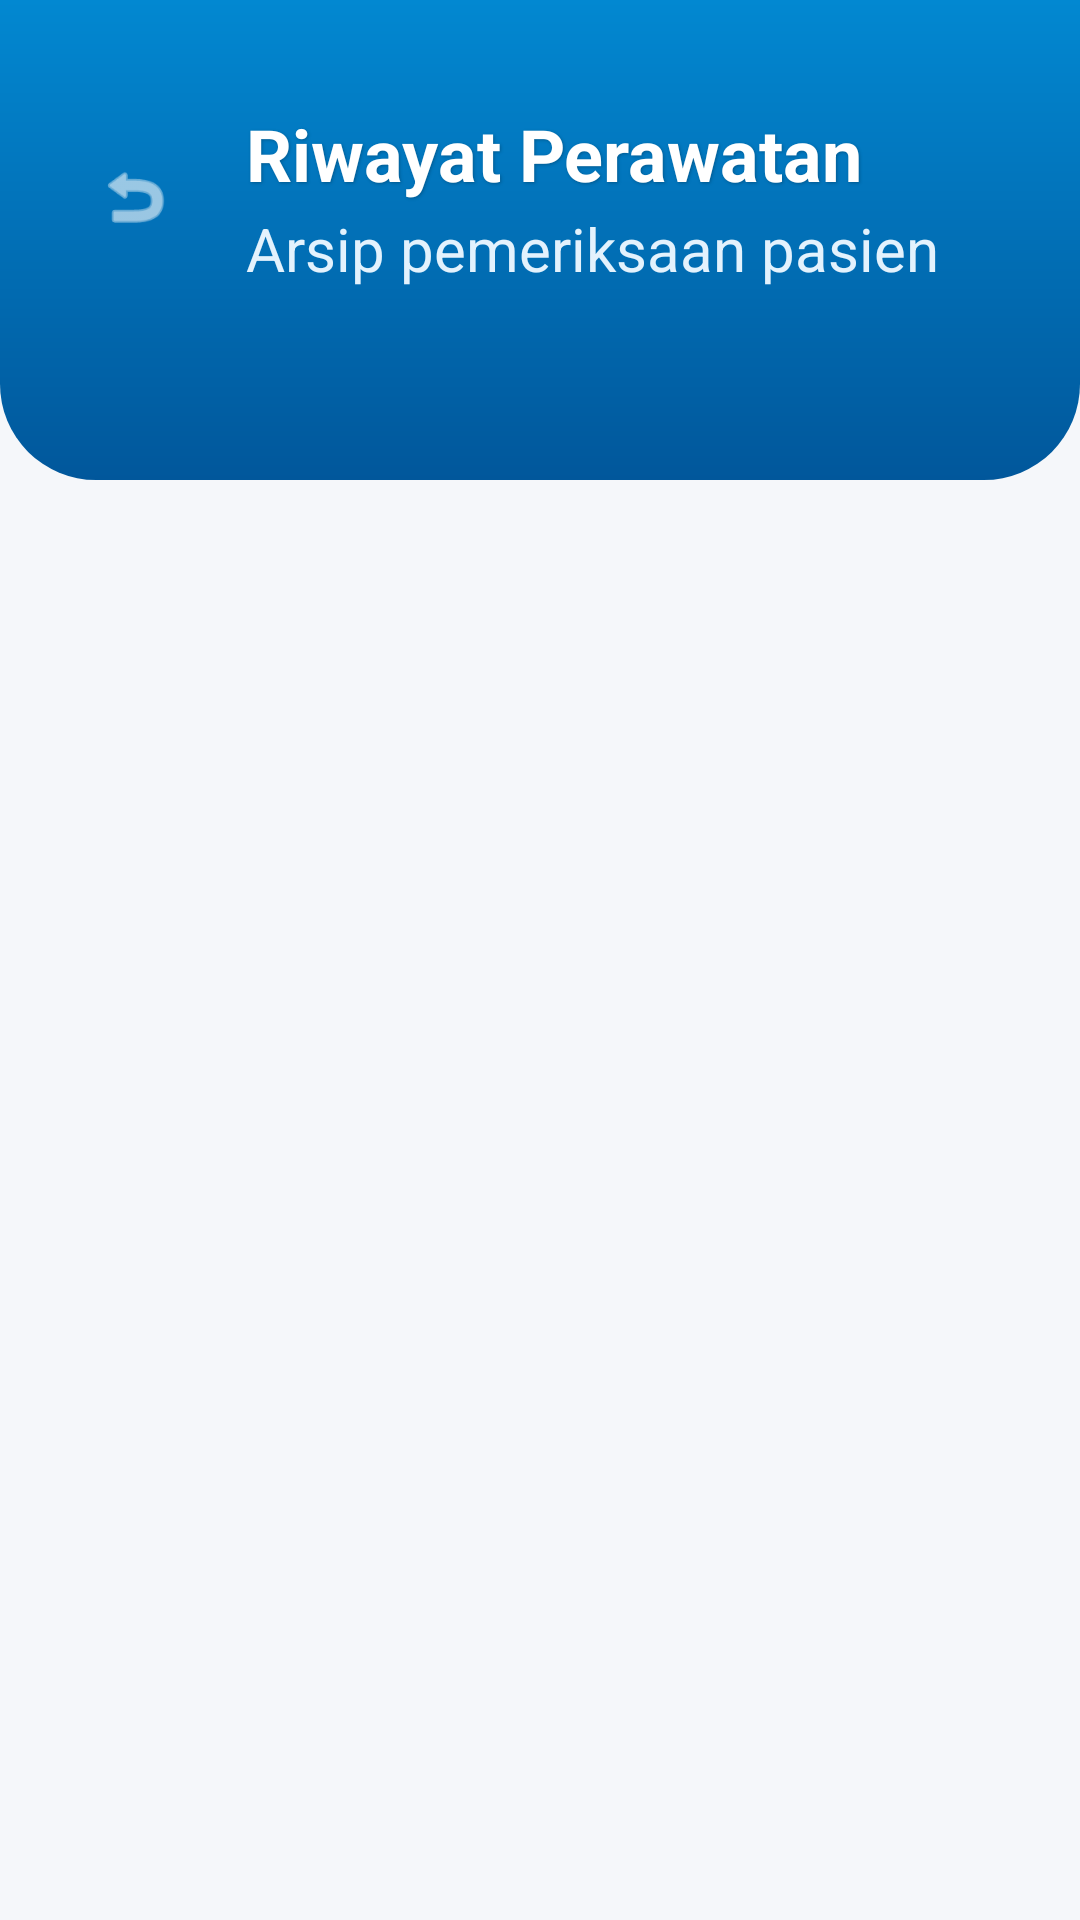

Locate icon controls on the screen. Image size 1080x1920, boxes as (x1, y1, x2, y2).
revert: (108, 172, 164, 223)
